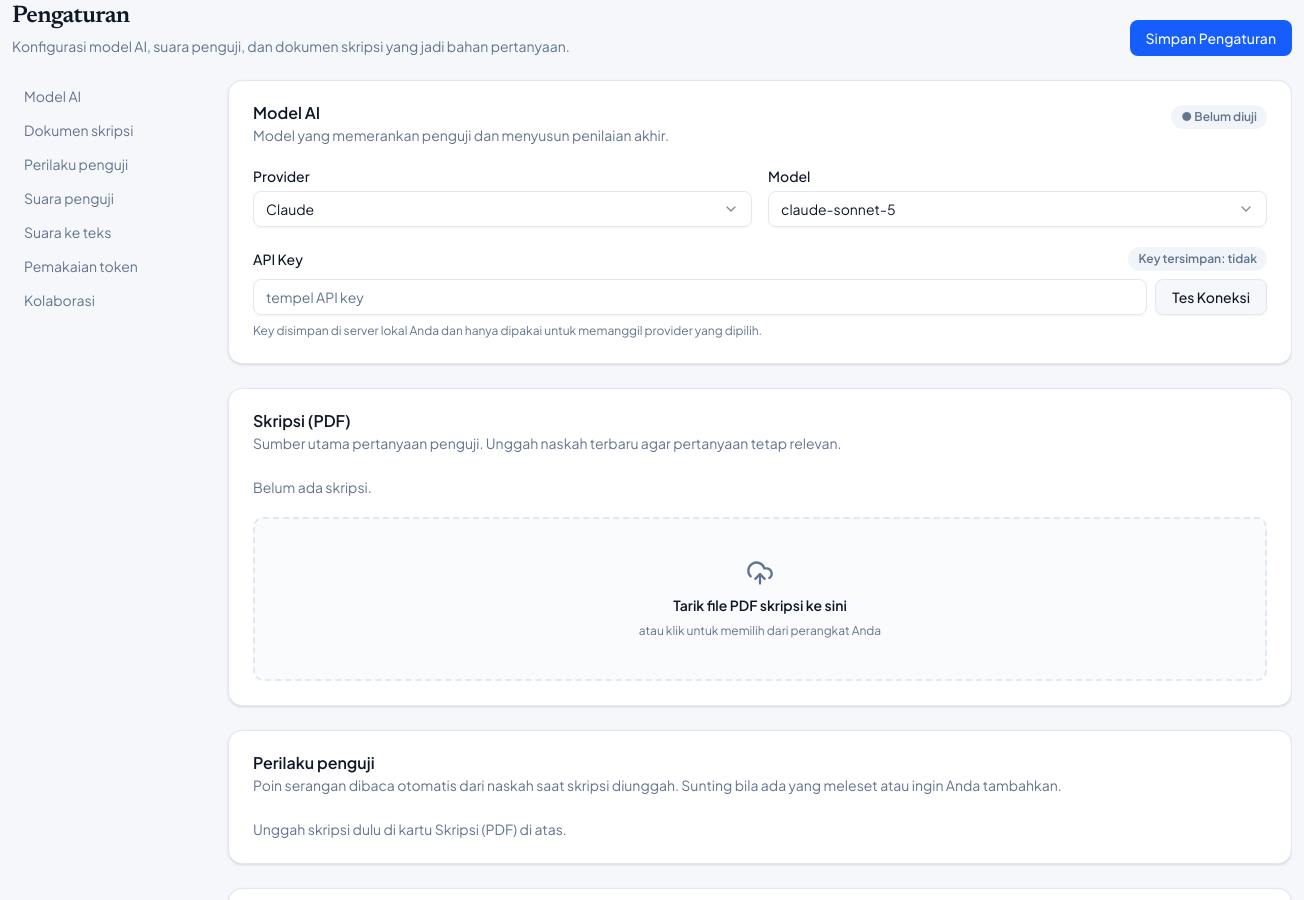
Test: SettingsPage › shows Terhubung after a successful LLM connection test
Click the button "Tes Koneksi". click: click(1211, 297)
box: [1155, 279, 1267, 315]
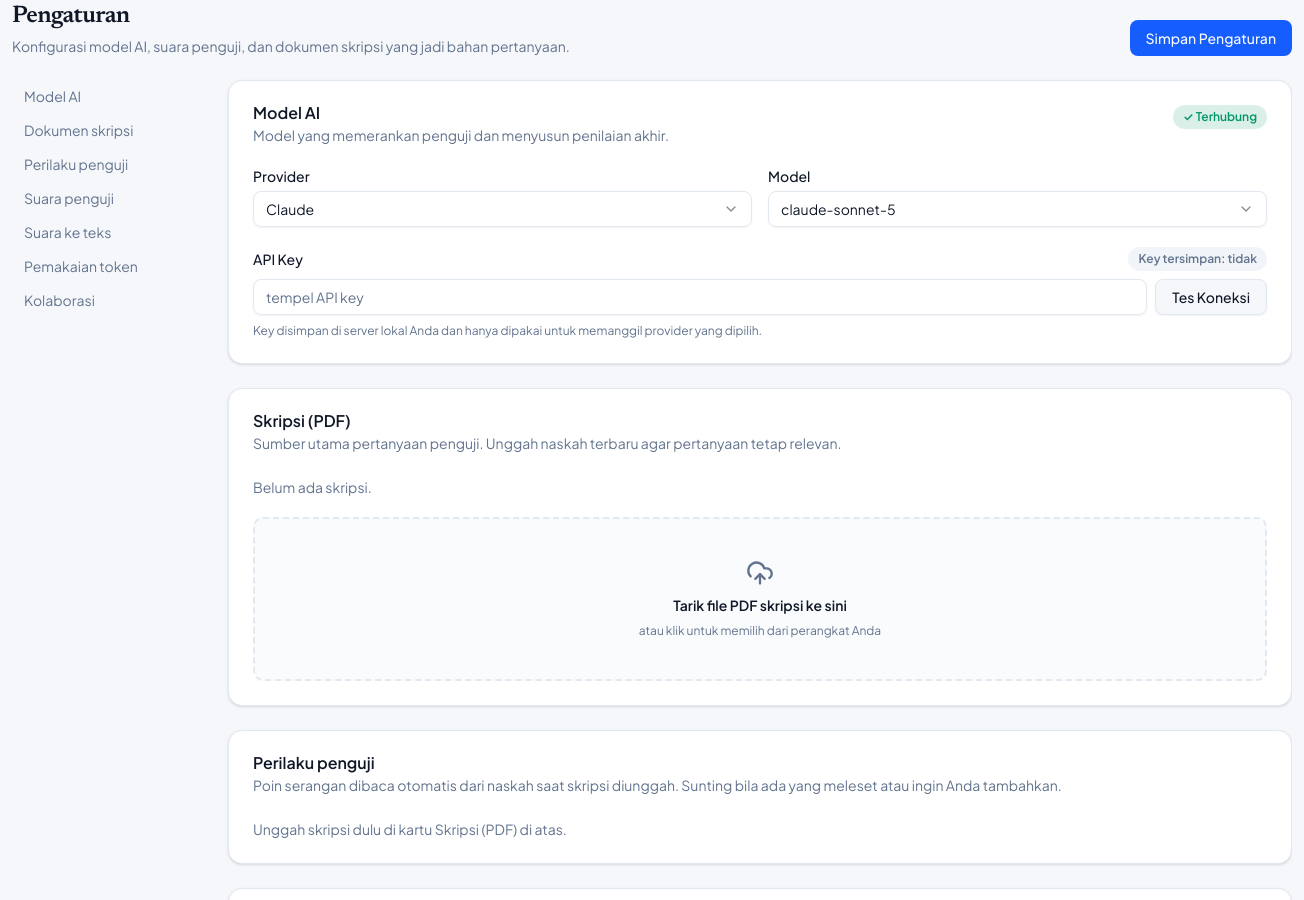
Now the text "✓ Terhubung" is shown, box [1173, 105, 1267, 129]
